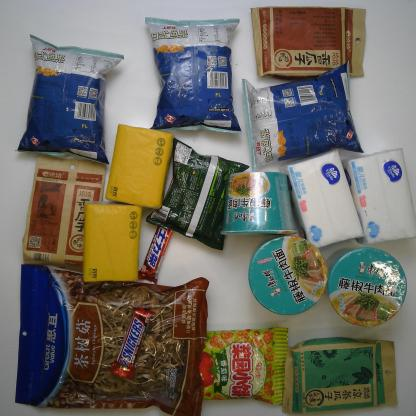Chocolate: (107, 307, 163, 379), (133, 217, 183, 291)
Dried Food: (11, 260, 214, 416), (17, 147, 110, 270), (278, 334, 402, 413), (249, 4, 372, 82)
Instant Noodles: (142, 132, 254, 252), (241, 226, 331, 318), (326, 239, 408, 331), (217, 165, 304, 241)
Puffed Food: (13, 27, 125, 169), (239, 60, 370, 169), (142, 9, 246, 139), (193, 323, 289, 406)
Tissue: (282, 146, 370, 253), (102, 118, 180, 212), (346, 148, 416, 246), (74, 196, 145, 285)
